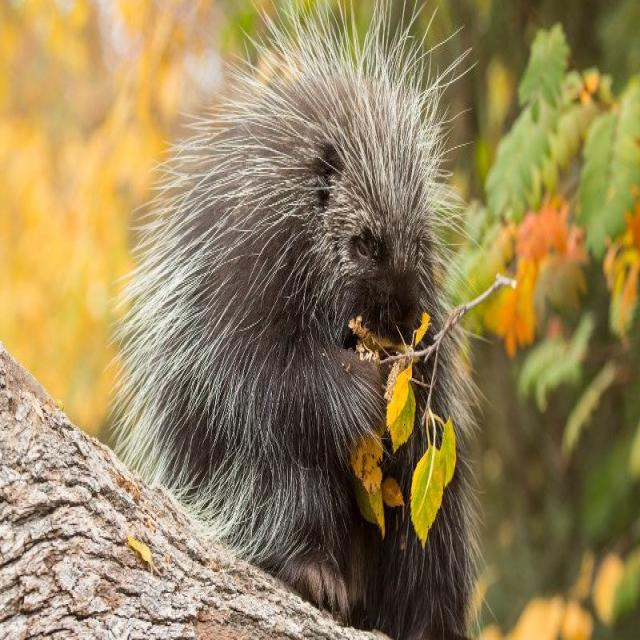Porcupine: (117, 35, 476, 632)
